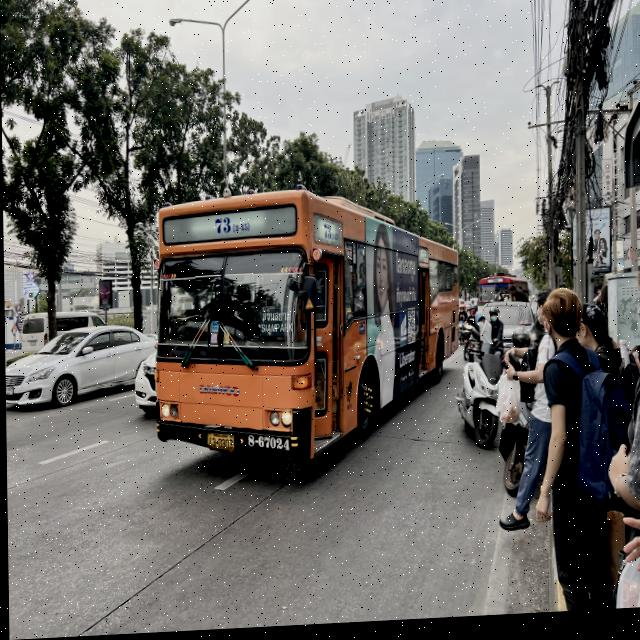BMTA-bus: (143, 187, 461, 478)
Bus-Line-Number: (198, 212, 265, 241)
Destination-Sign-Normal: (259, 306, 294, 342)
